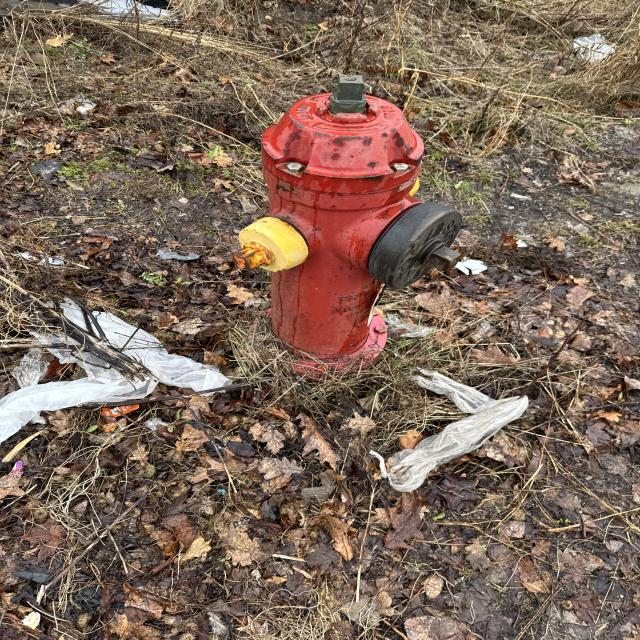Fire hydrant: (231, 74, 463, 380)
